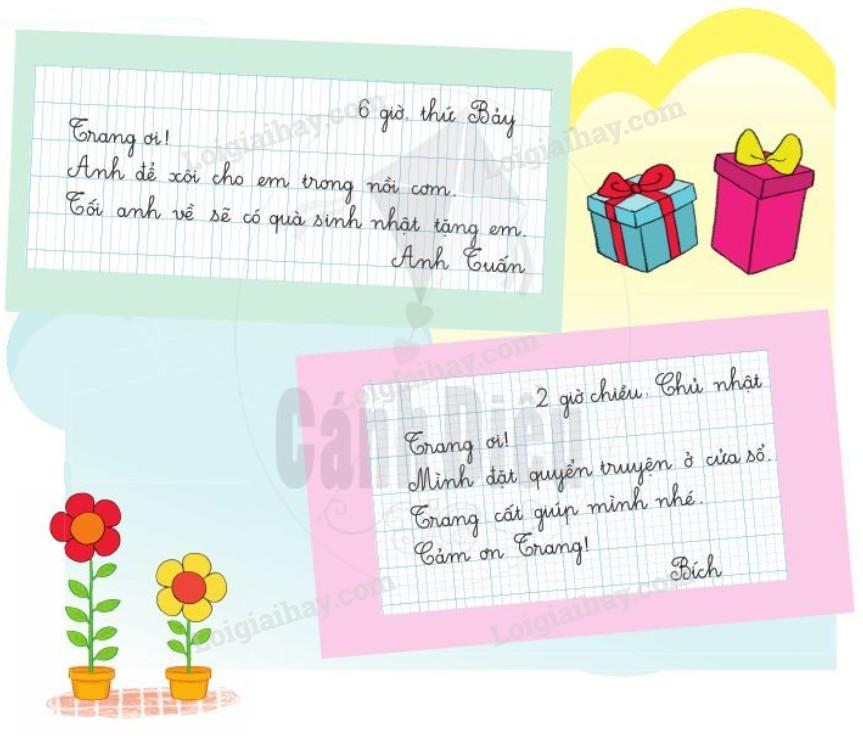text: (272, 381, 586, 495), (63, 190, 528, 248), (65, 153, 457, 207), (405, 440, 773, 495), (480, 99, 690, 183), (186, 573, 396, 655), (485, 569, 698, 649), (180, 91, 388, 172), (407, 483, 704, 539), (532, 367, 765, 419), (354, 95, 518, 141), (410, 530, 591, 568), (66, 114, 172, 159), (389, 243, 529, 277), (402, 430, 511, 467), (665, 552, 724, 582)
